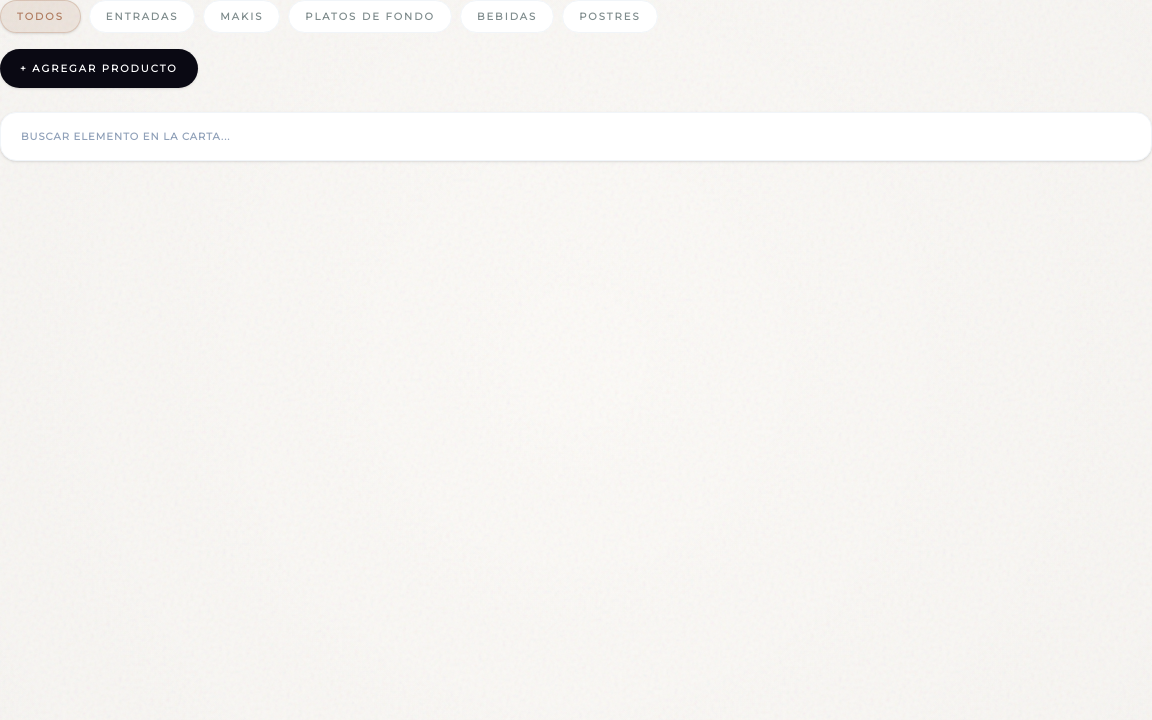
🧪 Tests para ViewCarta › Debería cerrar el formulario de creación al presionar Cancelar
Expected: the text "+ Agregar Producto" is shown, [20,61,178,76]
Click the button "+ Agregar Producto": (99, 68) [0,49,198,88]
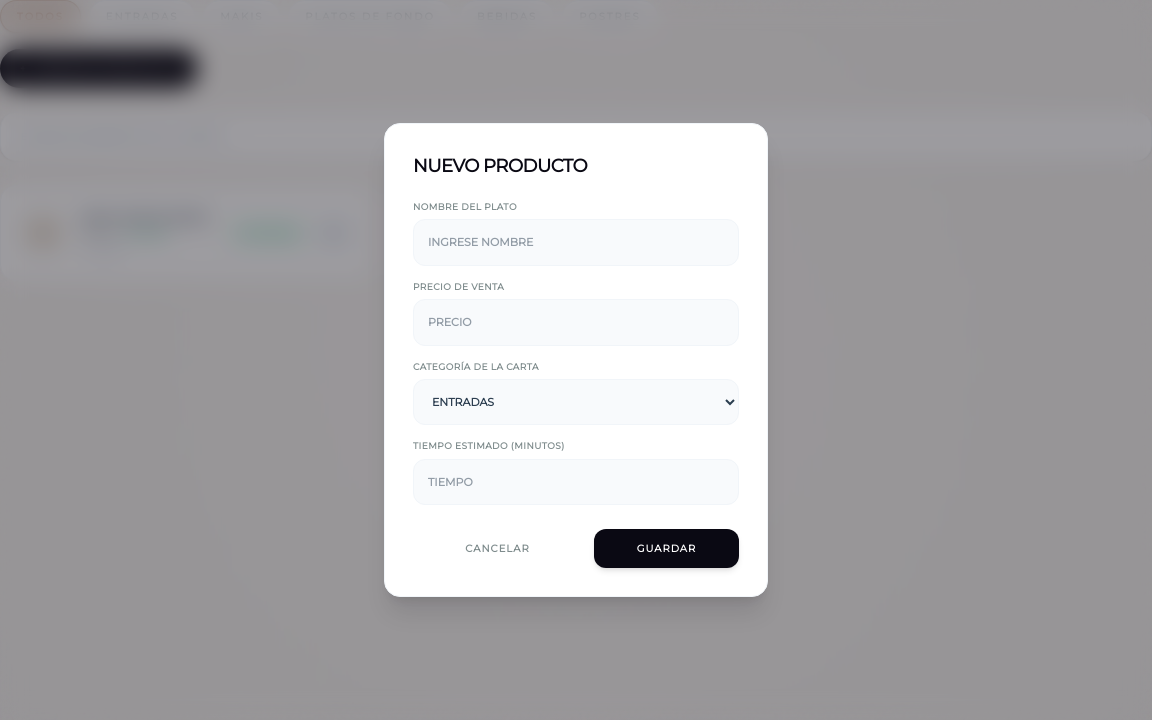
Result: the heading "Nuevo Producto" is shown at [413,155,587,177]
Click the button "CANCELAR": (498, 549) [413,529,582,568]
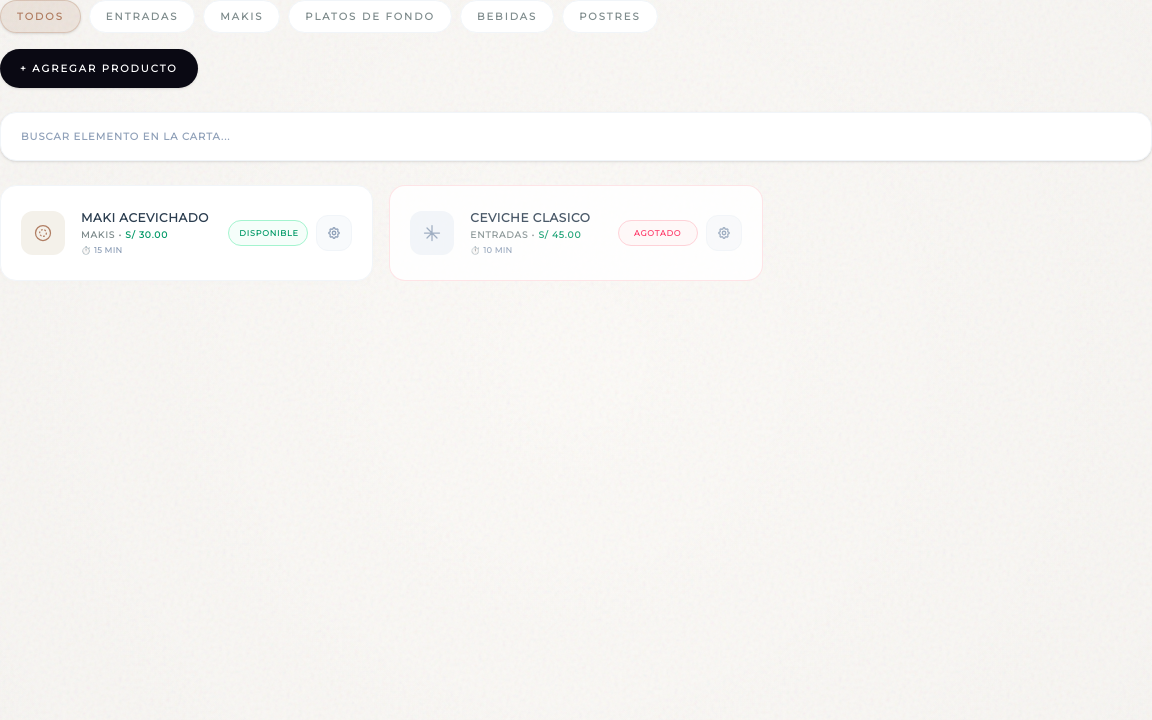
Result: the heading "Nuevo Producto" is gone
